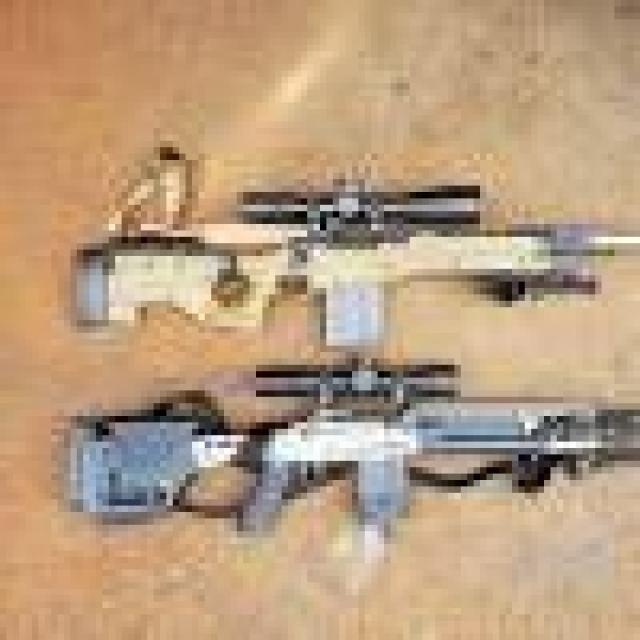Gun: (29, 165, 640, 359), (36, 362, 640, 558)
